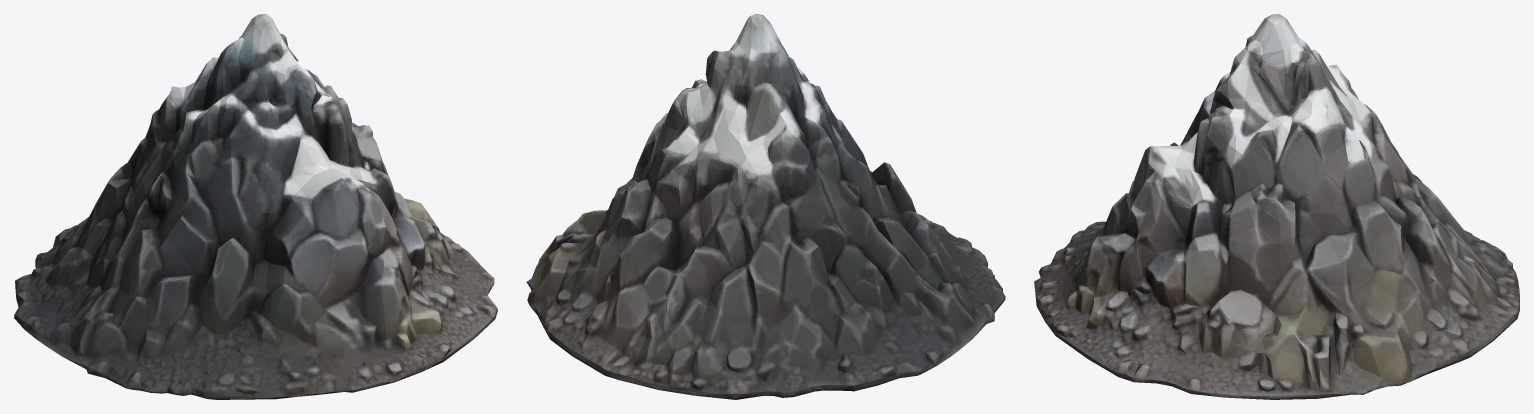
Rendered from mountain-1.glb.
The picture shows the model from 3 angles, left to right: view 1: azimuth 30°, elevation 25°; view 2: azimuth 150°, elevation 25°; view 3: azimuth 270°, elevation 25°; orthographic projection.
Visible parts, largest first — view 1: geometry_0; view 2: geometry_0; view 3: geometry_0.
Boxes of the visible parts, left/top/right/bottom form: geometry_0: left=14, top=14, right=497, bottom=399; geometry_0: left=526, top=14, right=1005, bottom=399; geometry_0: left=1034, top=14, right=1519, bottom=399.
Size of the model in its own units: 0.9753 by 0.6476 by 0.9898.
Materials: 1 (1 with a texture image).
